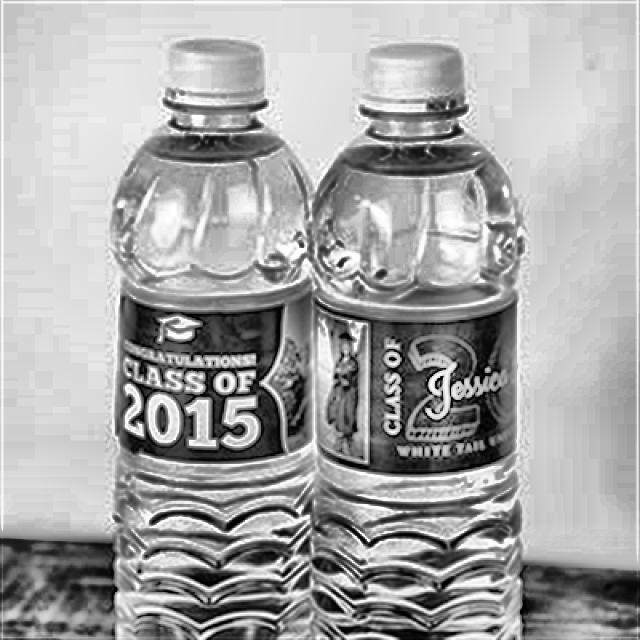waterbottle: (98, 30, 339, 640), (301, 29, 535, 640)
